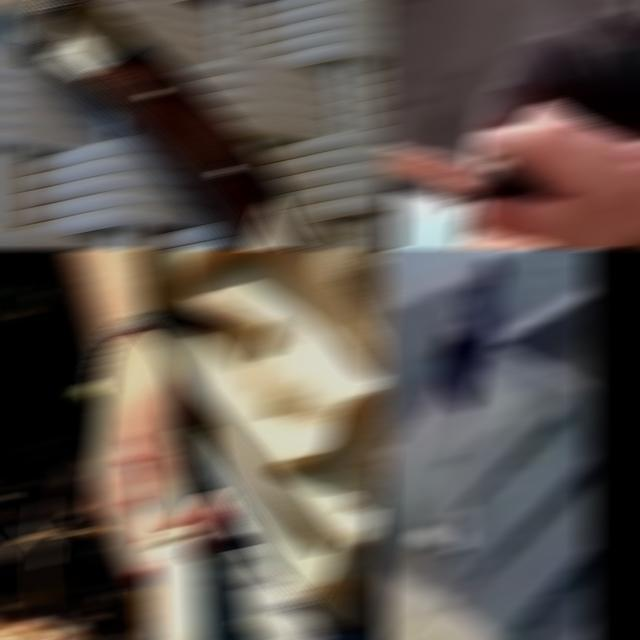Knife: (146, 429, 208, 639), (378, 141, 546, 199)
Knife_Handle: (378, 94, 640, 248)
